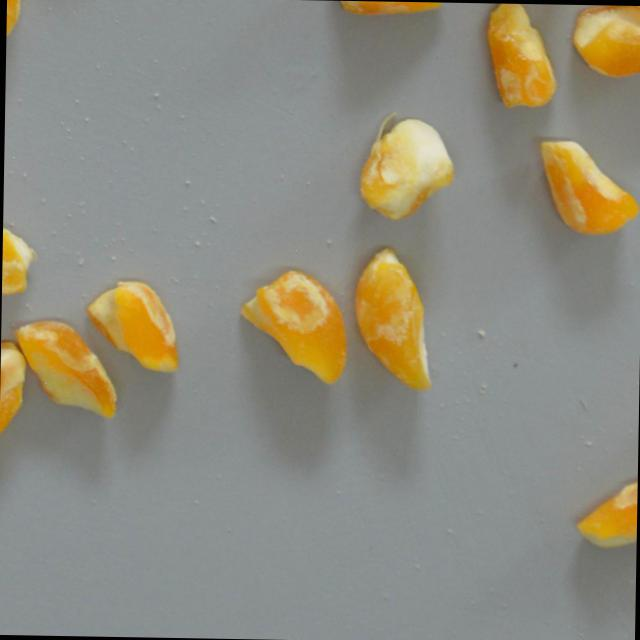pelicula: (226, 277, 363, 383), (328, 271, 477, 368), (15, 321, 131, 420), (351, 115, 458, 222), (522, 132, 640, 225), (86, 282, 191, 378), (460, 24, 574, 89), (565, 4, 640, 85), (577, 471, 637, 566), (0, 359, 50, 441), (0, 227, 40, 322), (329, 0, 445, 21), (2, 105, 20, 199)
